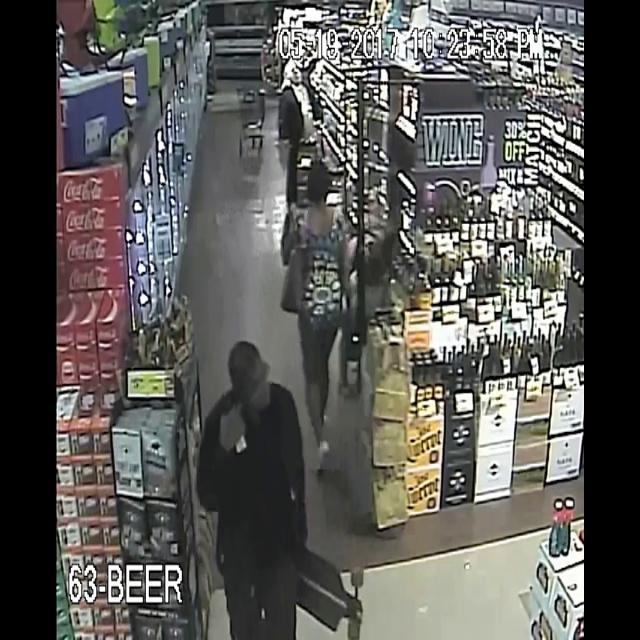Product: (227, 414, 252, 468)
normal: (275, 141, 376, 460), (266, 52, 324, 140)
shoplifting: (164, 324, 346, 640)
